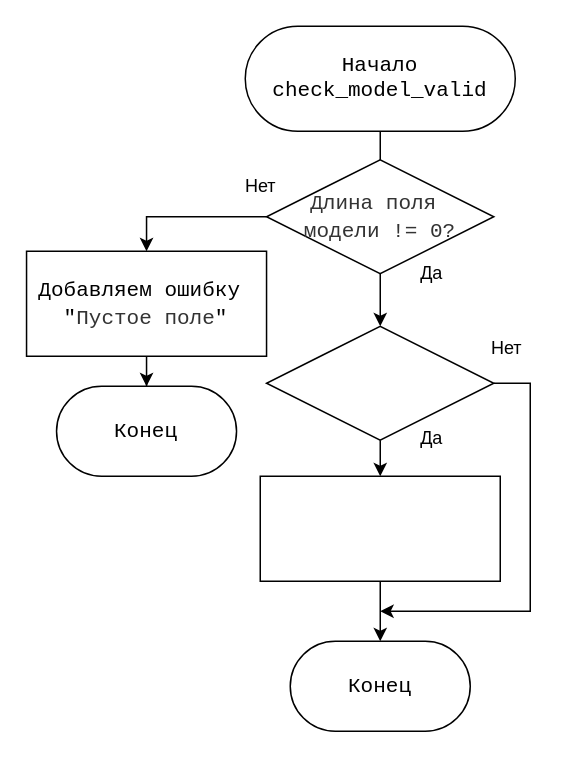
This 569x758 diagram has some shape labels left out. Each missing label, with the box of its shape:
Длина < ожидаемой?: (265, 325, 494, 440)
Добавляем ошибку " Слишком длинное название ": (259, 475, 500, 581)
